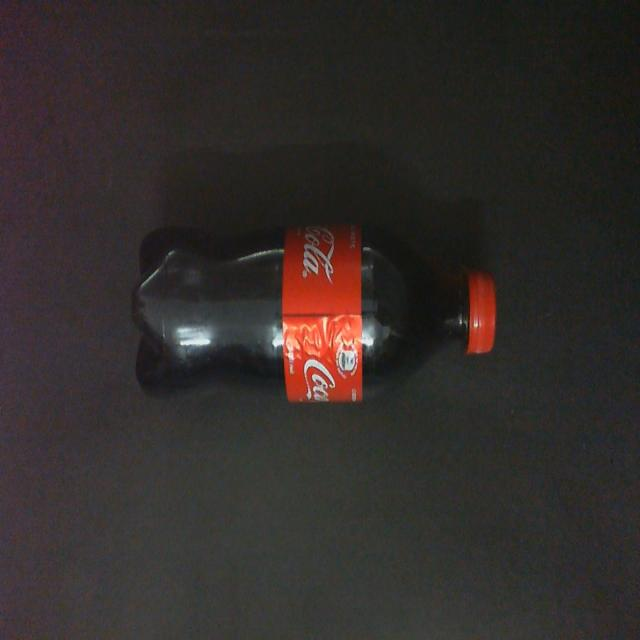non-defect: (130, 216, 500, 409)
